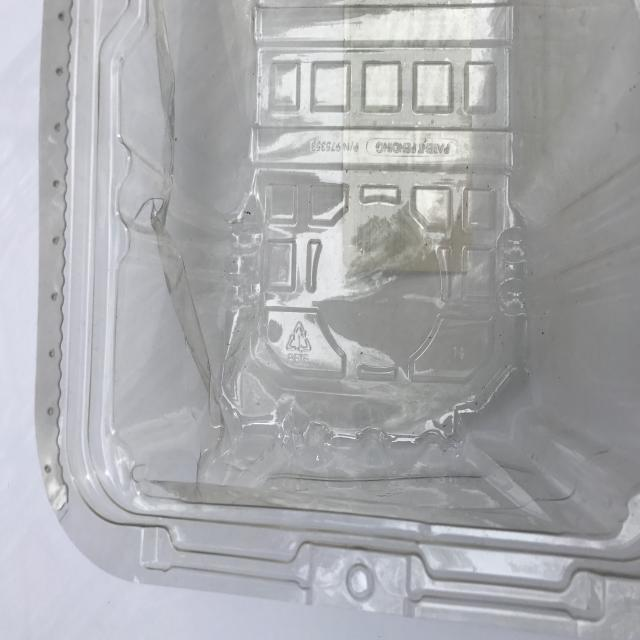plastic: (14, 0, 640, 618)
